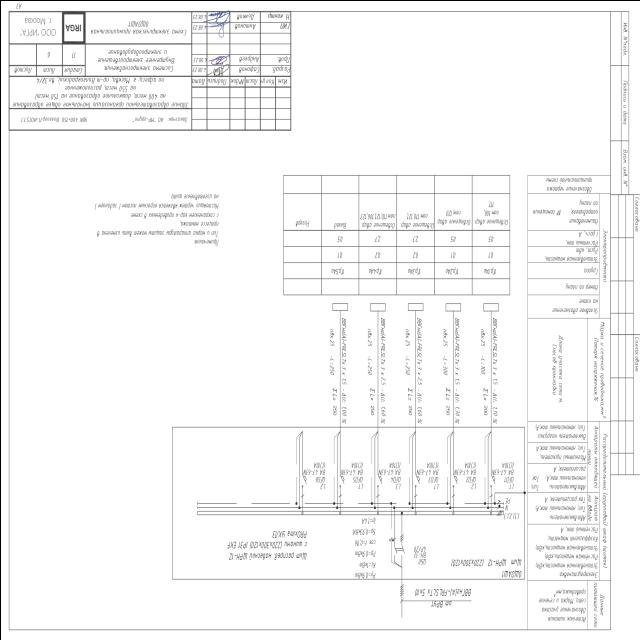-: (449, 558, 521, 566), (414, 458, 439, 476), (338, 459, 364, 476), (302, 459, 327, 475), (452, 460, 477, 476), (377, 458, 402, 474), (490, 460, 515, 476), (411, 543, 427, 557)
QF: (391, 544, 405, 556), (376, 472, 382, 497), (413, 473, 419, 497), (300, 473, 306, 497), (488, 473, 494, 497), (338, 473, 343, 498), (451, 473, 456, 497)
